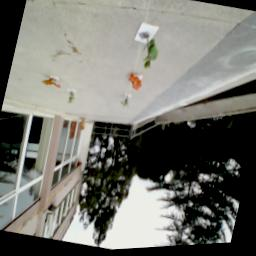herb: (139, 34, 164, 74), (67, 91, 77, 107), (121, 97, 132, 111)
wild: (41, 75, 65, 93), (126, 74, 146, 95)
